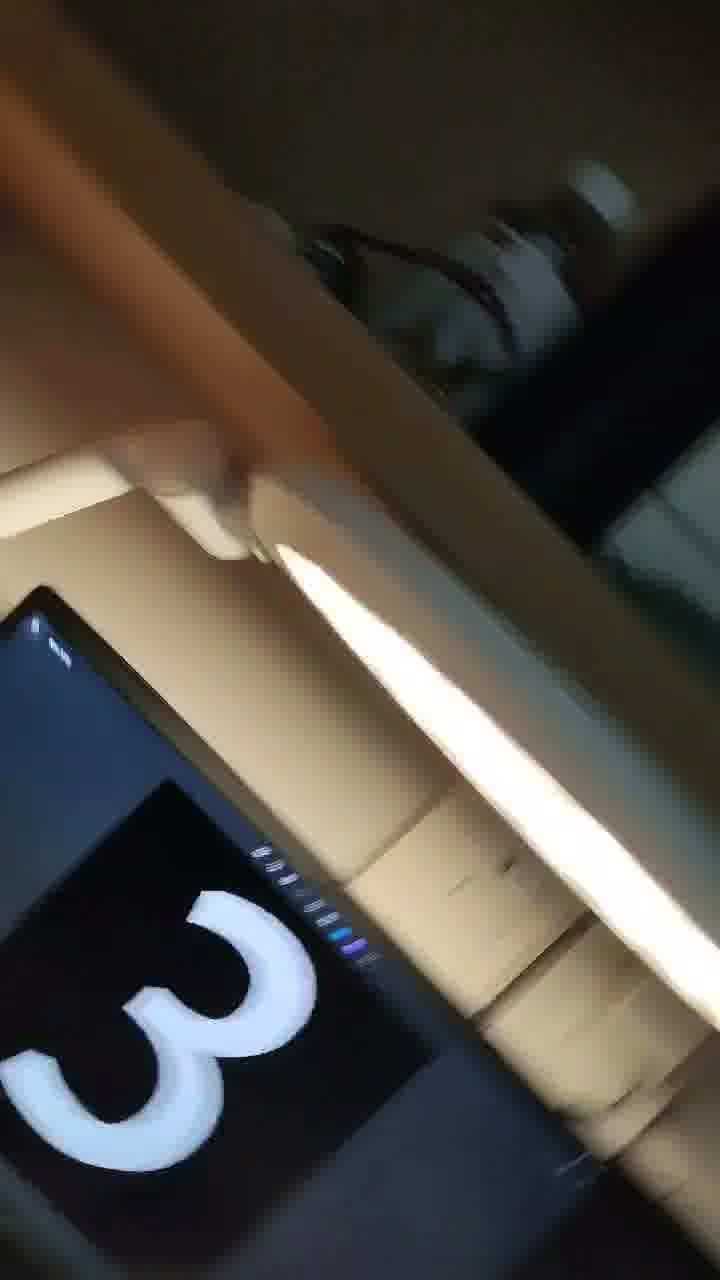three: (1, 802, 347, 1188)
